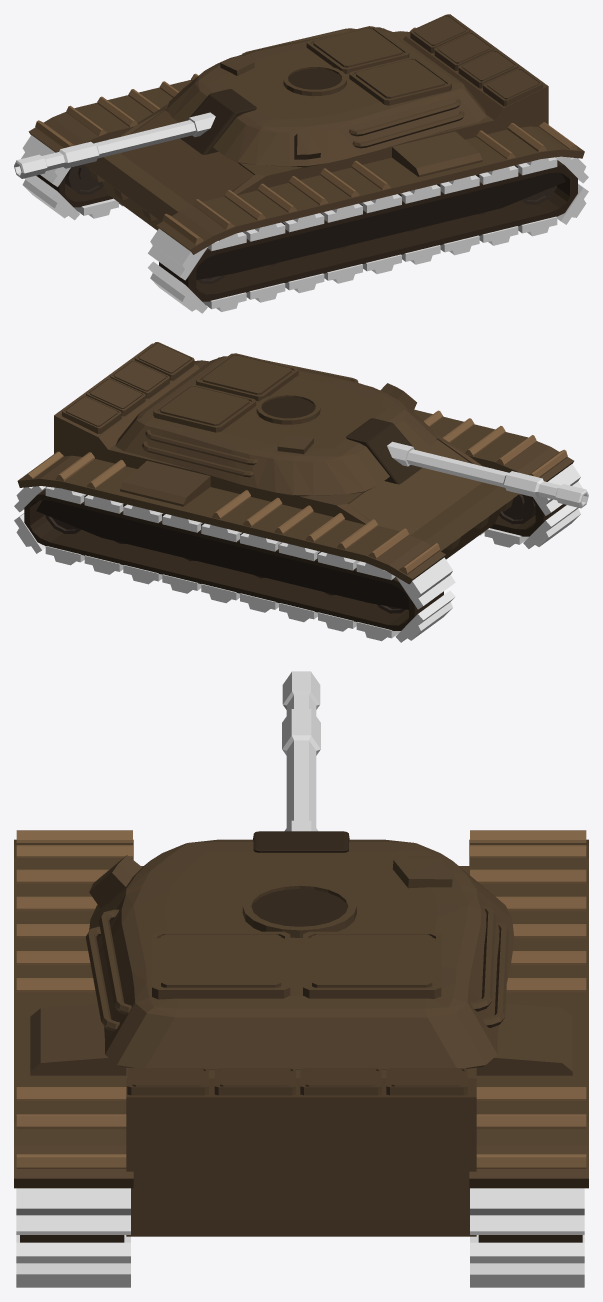
Rendered from Tank2.fbx.
3 views of the same model, one above another, from view 1: azimuth 30°, elevation 25°; view 2: azimuth 150°, elevation 25°; view 3: azimuth 270°, elevation 25° (orthographic). The views are drawn at different scales.
Visible parts, largest first — view 1: MeshBody2, MeshBody1, MeshBody4, MeshBody5, MeshBody3; view 2: MeshBody2, MeshBody1, MeshBody3, MeshBody5, MeshBody4; view 3: MeshBody2, MeshBody1, MeshBody3, MeshBody4, MeshBody5.
Part boxes in pixels (bbox=[...]): MeshBody2: bbox=[28, 14, 584, 301]; MeshBody1: bbox=[166, 26, 486, 167]; MeshBody4: bbox=[147, 156, 588, 313]; MeshBody5: bbox=[14, 112, 215, 178]; MeshBody3: bbox=[21, 135, 123, 220]; MeshBody2: bbox=[17, 342, 573, 630]; MeshBody1: bbox=[115, 353, 436, 496]; MeshBody3: bbox=[14, 486, 455, 642]; MeshBody5: bbox=[387, 441, 588, 508]; MeshBody4: bbox=[480, 464, 582, 548]; MeshBody2: bbox=[14, 830, 588, 1242]; MeshBody1: bbox=[85, 831, 513, 1069]; MeshBody3: bbox=[470, 1188, 584, 1287]; MeshBody4: bbox=[16, 1188, 130, 1287]; MeshBody5: bbox=[282, 671, 320, 831].
Bounding box in the file's own units: 1768 × 462 × 1009.
